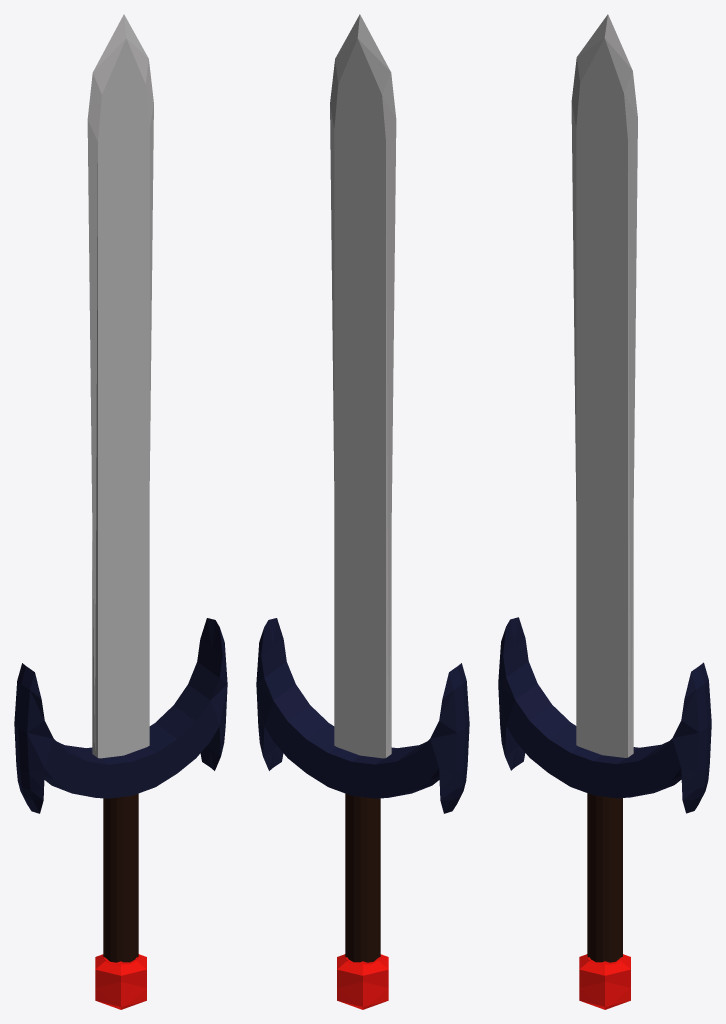
Rendered from warlock_sword.obj.
3 renders of one model, left to right at view 1: azimuth 30°, elevation 25°; view 2: azimuth 150°, elevation 25°; view 3: azimuth 330°, elevation 25°, orthographic.
Parts seen in each view (by area): view 1: Sword; view 2: Sword; view 3: Sword.
Boxes of the visible parts, x1=… form: Sword: x1=14, y1=14, x2=227, y2=1009; Sword: x1=256, y1=14, x2=469, y2=1009; Sword: x1=498, y1=14, x2=711, y2=1009.
Size of the model in its own units: 2.09 by 9.69 by 0.4547.
